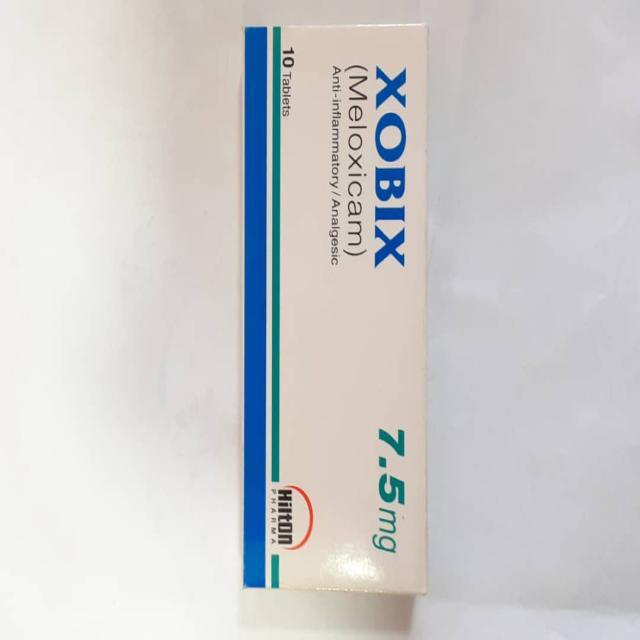drug-name: (374, 61, 406, 272)
